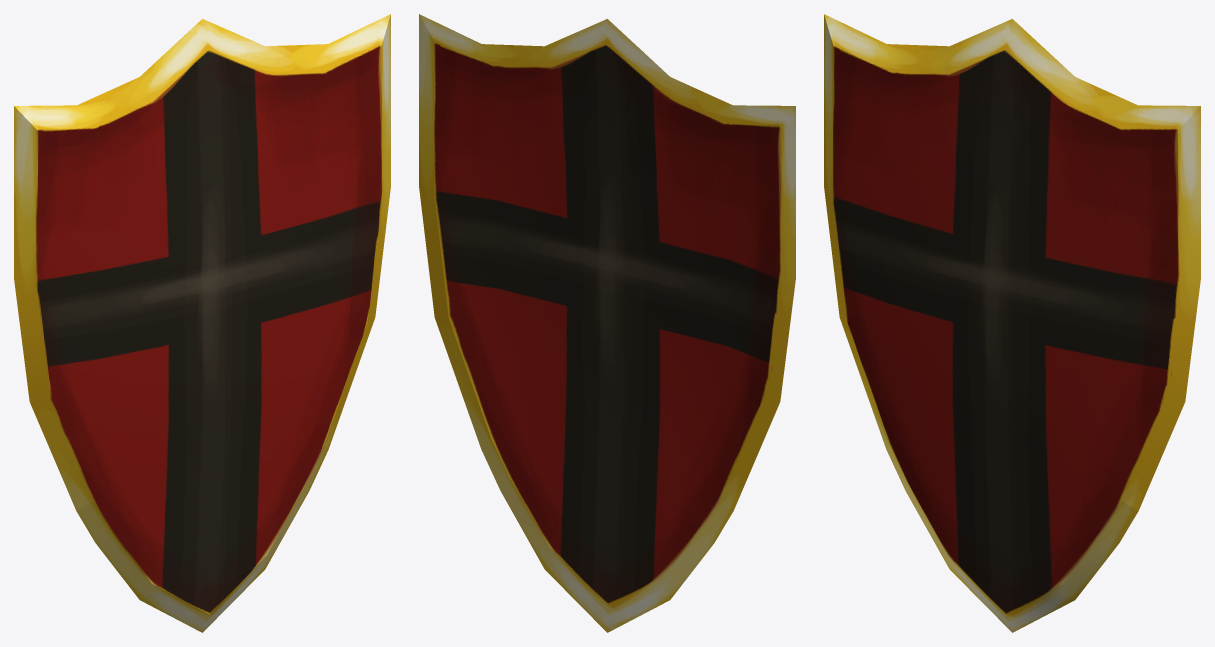
The model's file is Shield.fbx.
3 renders of one model, left to right at view 1: azimuth 30°, elevation 25°; view 2: azimuth 150°, elevation 25°; view 3: azimuth 330°, elevation 25°, orthographic.
Parts seen in each view (by area): view 1: polySurface2, polySurface1; view 2: polySurface2, polySurface1; view 3: polySurface2, polySurface1.
Part boxes in pixels (box(x1,y1,x2,y2)): polySurface2: box(37, 46, 381, 614); polySurface1: box(14, 14, 390, 632); polySurface2: box(434, 41, 778, 603); polySurface1: box(419, 14, 795, 632); polySurface2: box(833, 46, 1177, 614); polySurface1: box(824, 14, 1200, 632).
Size of the model in its own units: 82.02 by 128 by 5.51.
1 material, 1 textured.
